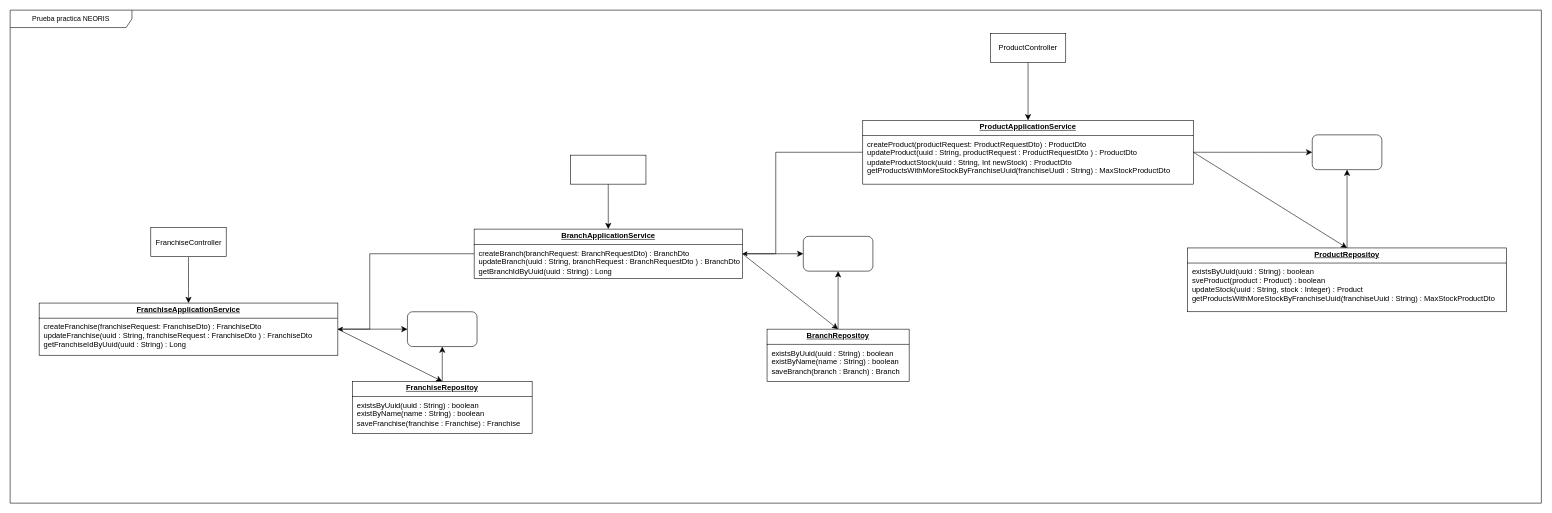
Image size: 1552x513. Some labels were removed from this diagram. The shapes that lost their labels are listed below. From the top down, each one's box as (x1, y1, x2, y2) in pixels, then its label:
(570, 155, 646, 184): BranchController
(1312, 134, 1382, 170): Product
(803, 236, 873, 271): Branch
(407, 311, 477, 347): Franchise
